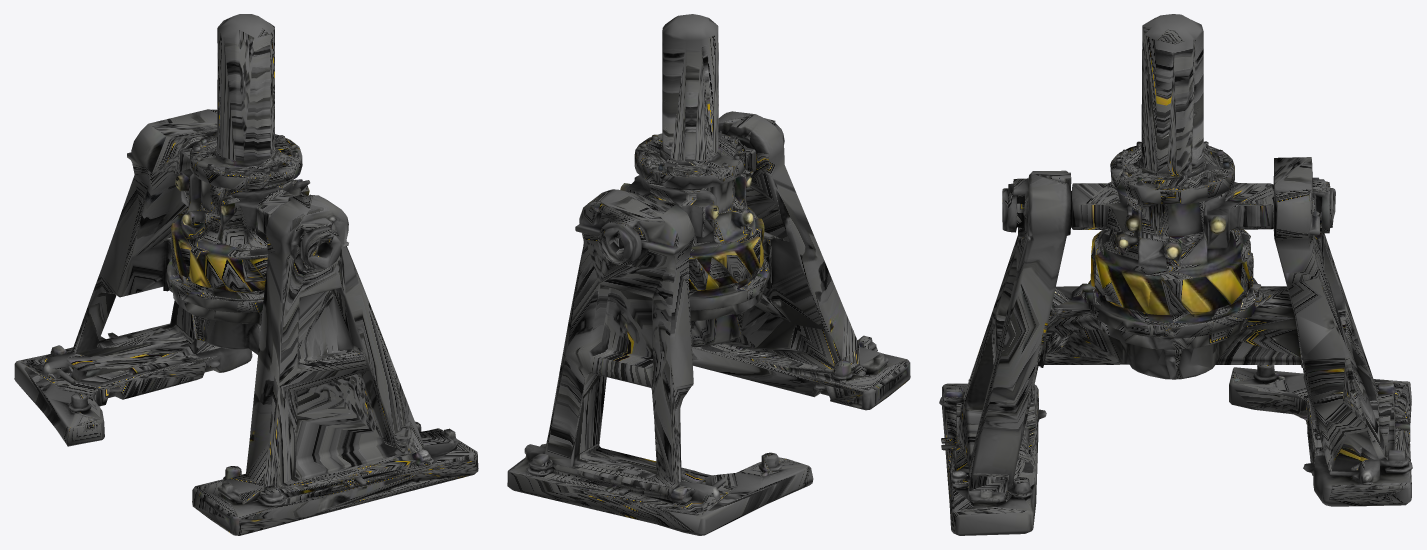
Rendered from seesaw_pivot.glb.
3 renders of one model, left to right at view 1: azimuth 30°, elevation 25°; view 2: azimuth 150°, elevation 25°; view 3: azimuth 270°, elevation 25°, orthographic. The views are drawn at different scales.
Parts seen in each view (by area): view 1: tripo_node_4b7f75f5-ddf2-4285-b3b7-59034358b307; view 2: tripo_node_4b7f75f5-ddf2-4285-b3b7-59034358b307; view 3: tripo_node_4b7f75f5-ddf2-4285-b3b7-59034358b307.
Part boxes in pixels (x1,y1,x2,y2): tripo_node_4b7f75f5-ddf2-4285-b3b7-59034358b307: (14,14,478,535); tripo_node_4b7f75f5-ddf2-4285-b3b7-59034358b307: (507,14,910,535); tripo_node_4b7f75f5-ddf2-4285-b3b7-59034358b307: (939,14,1412,535).
Size of the model in its own units: 0.7241 by 0.9995 by 0.9603.
Materials: 1 (1 with a texture image).
